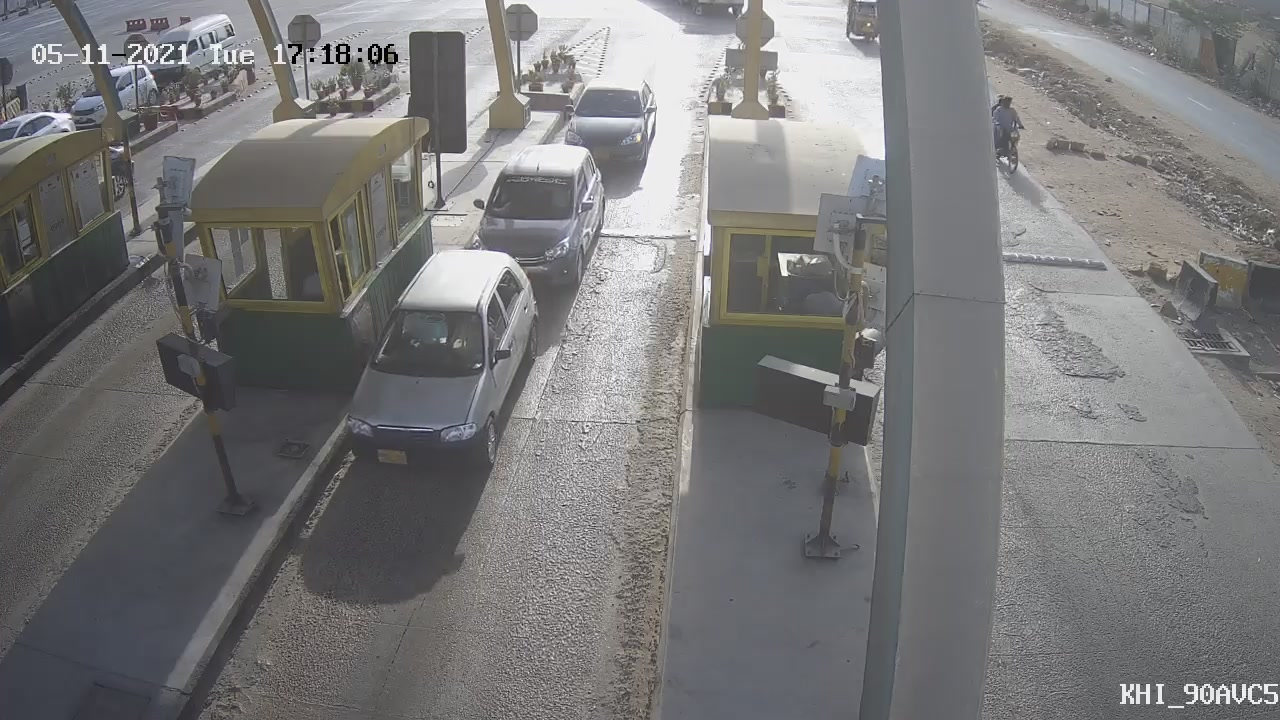F1: (325, 234, 556, 486), (451, 131, 618, 320), (544, 62, 674, 188)
